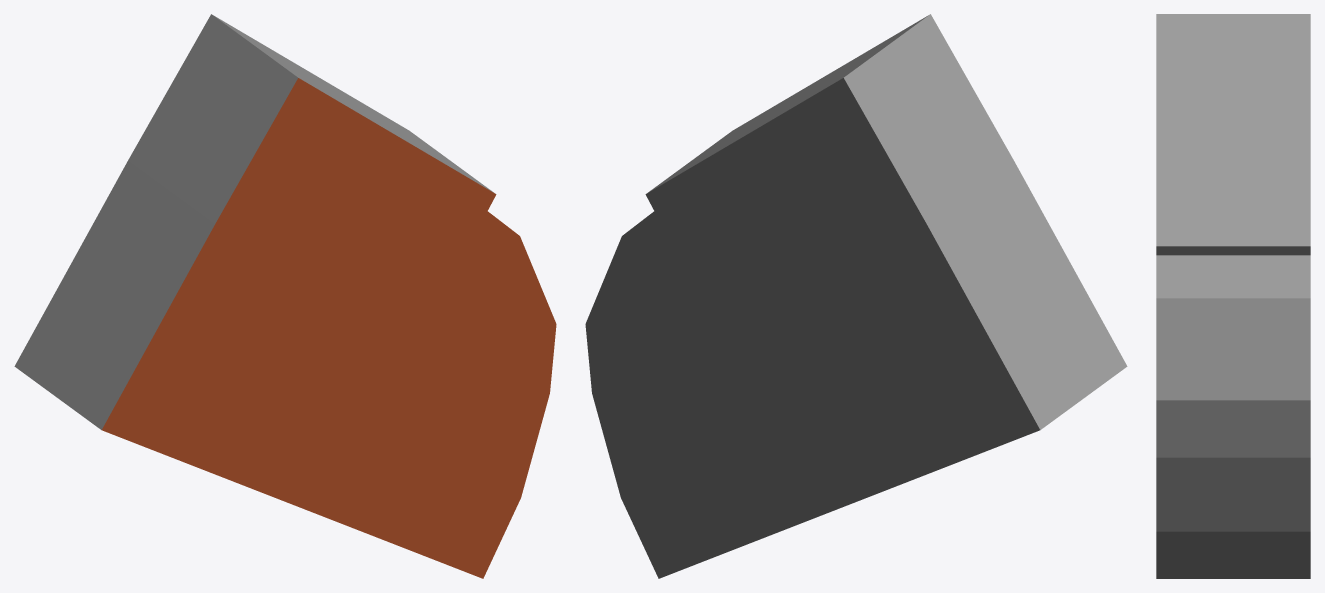
File: construction_4502_assumed_A_Casa_h6m.obj
3 views of the same model, side by side, from view 1: azimuth 30°, elevation 25°; view 2: azimuth 150°, elevation 25°; view 3: azimuth 270°, elevation 25° (orthographic). The views are drawn at different scales.
Visible parts, largest first — view 1: construction_4502_assumed_A_Casa; view 2: construction_4502_assumed_A_Casa; view 3: construction_4502_assumed_A_Casa.
Boxes of the visible parts, left/top/right/bottom form: construction_4502_assumed_A_Casa: left=14, top=14, right=556, bottom=578; construction_4502_assumed_A_Casa: left=585, top=14, right=1127, bottom=578; construction_4502_assumed_A_Casa: left=1156, top=14, right=1310, bottom=578.
Size of the model in its own units: 18.09 by 20.76 by 6.
